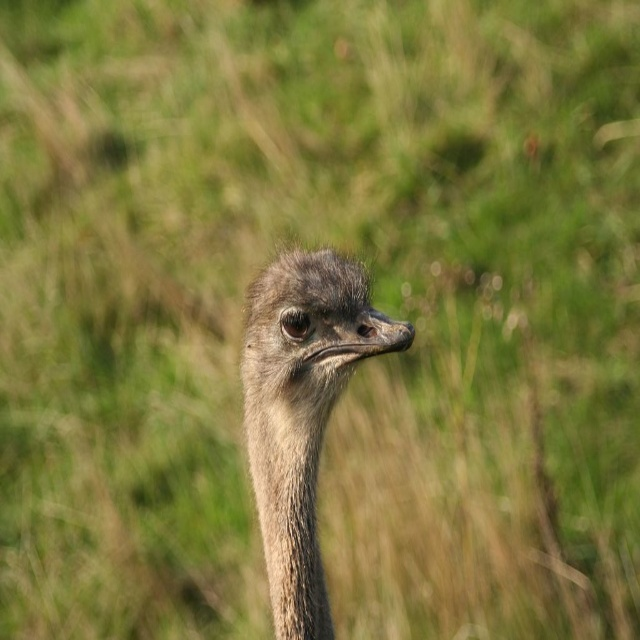Ostrich: (240, 243, 414, 629)
